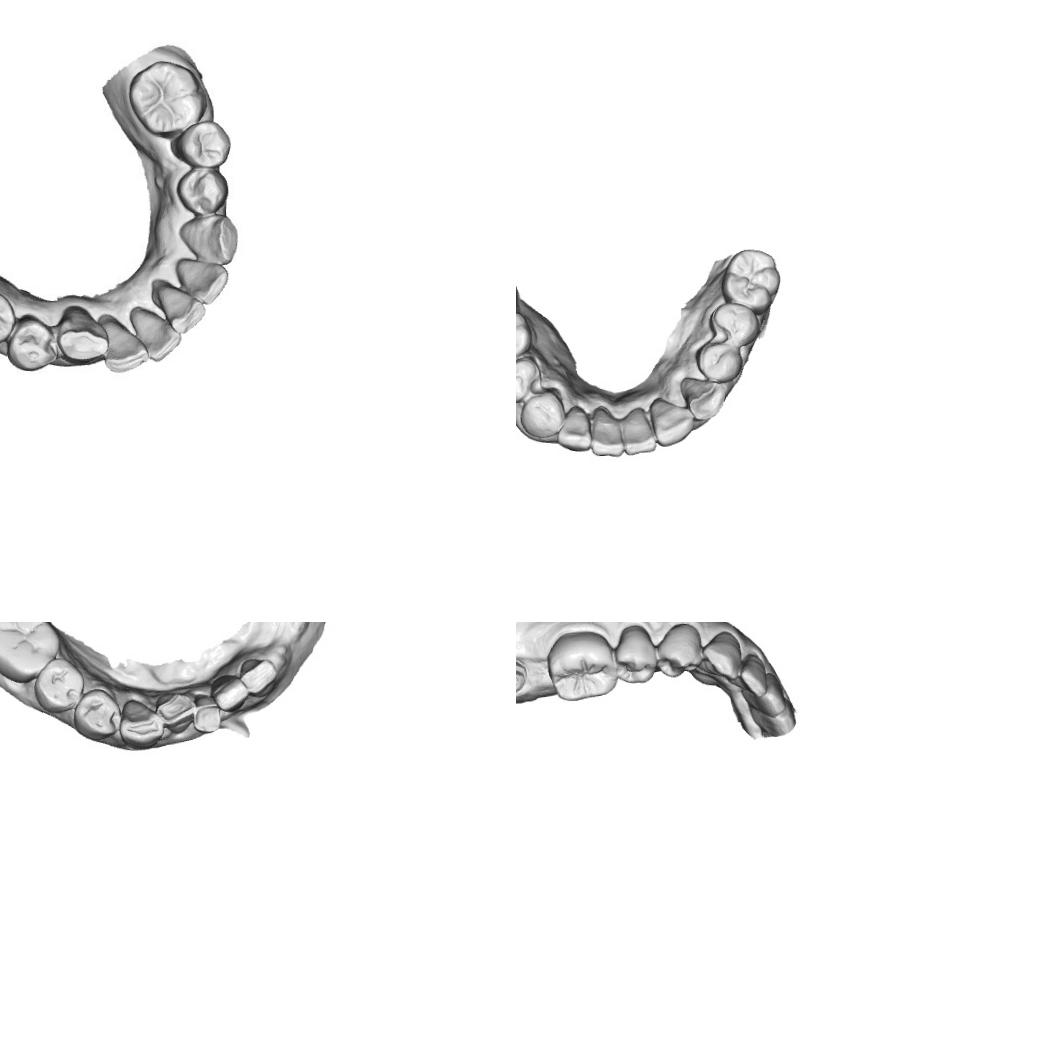canine: (174, 213, 240, 265), (54, 306, 111, 364), (116, 697, 169, 748), (699, 628, 744, 683), (518, 386, 564, 438), (679, 375, 727, 422)
implant_minus: (516, 655, 528, 696)
incisor: (129, 305, 184, 365), (100, 312, 150, 378), (148, 280, 209, 334), (172, 256, 229, 302), (648, 395, 694, 449), (154, 684, 198, 735), (190, 684, 230, 737), (589, 404, 625, 458), (619, 406, 657, 456), (237, 654, 280, 698), (554, 404, 592, 453), (210, 672, 252, 716), (744, 681, 788, 718), (737, 650, 769, 699)
molar: (123, 57, 209, 139), (544, 628, 620, 704), (719, 247, 782, 317), (0, 622, 63, 686)
premolar: (30, 654, 88, 717), (171, 117, 232, 172), (173, 163, 231, 218), (5, 312, 56, 373), (70, 686, 122, 742), (614, 623, 659, 686), (655, 622, 704, 679), (708, 300, 760, 348), (694, 338, 744, 385), (516, 355, 542, 404), (0, 286, 17, 350), (516, 310, 532, 364)
